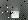person: (12, 9, 20, 18)
